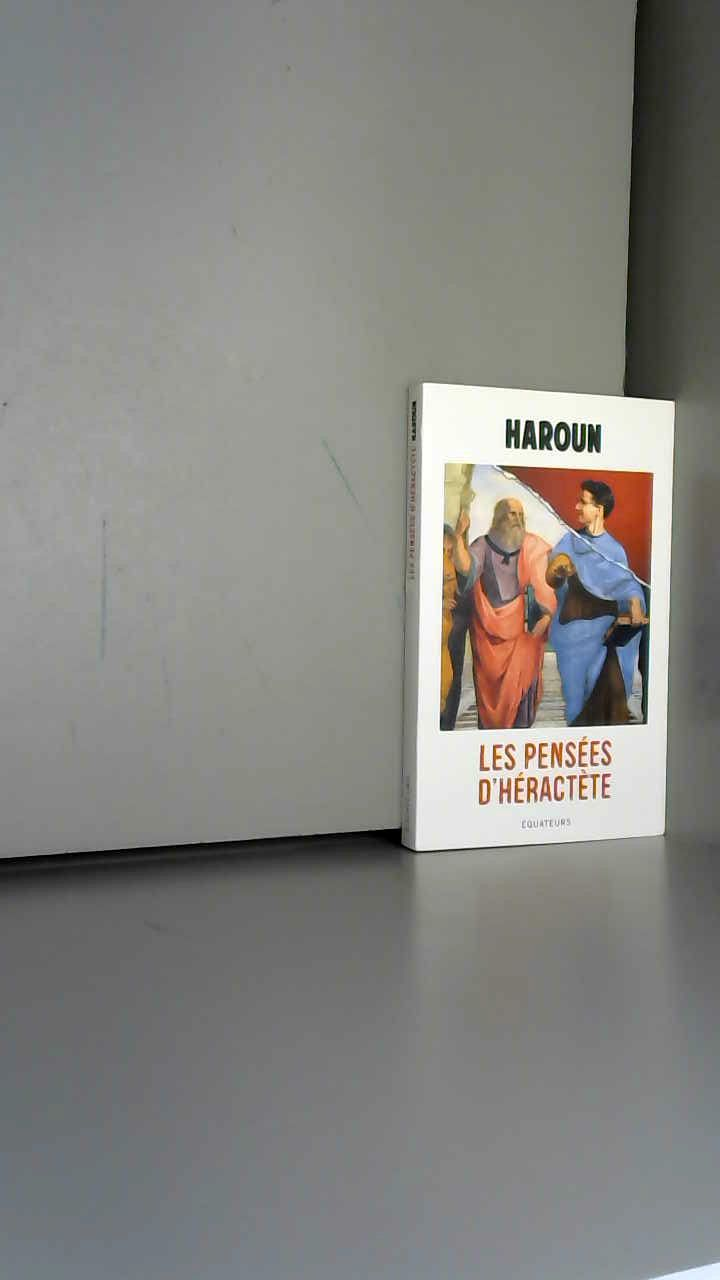book: (390, 350, 720, 920)
